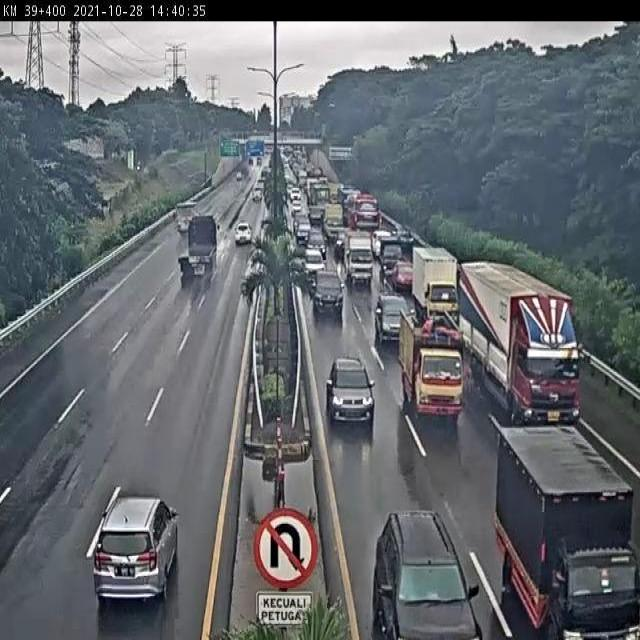big truck: (172, 219, 219, 280)
car: (93, 494, 177, 594), (326, 360, 373, 429), (310, 264, 344, 312), (373, 294, 406, 342), (299, 246, 327, 282), (392, 257, 416, 288), (230, 224, 255, 251)
small truck: (169, 196, 197, 239)
truck-l-: (457, 262, 585, 418)
truck-m-: (494, 428, 640, 639), (401, 306, 463, 411), (411, 244, 459, 323)
truck-s-: (343, 225, 374, 283)
